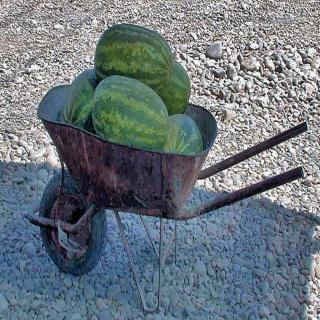Watermelon: (92, 74, 169, 149), (94, 20, 171, 94), (61, 66, 97, 130), (160, 60, 191, 116), (164, 115, 203, 156)
